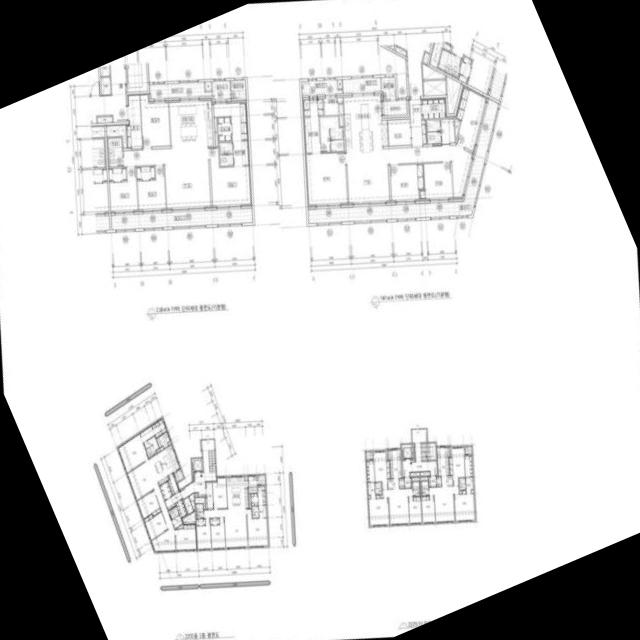background: (0, 0, 640, 640)
space_balconi: (308, 98, 498, 223), (149, 82, 212, 98), (342, 77, 381, 93), (301, 80, 342, 95), (212, 80, 230, 99), (173, 469, 183, 482), (257, 475, 265, 485)
space_bedroom: (209, 147, 252, 207), (305, 152, 347, 206), (455, 85, 487, 151), (140, 93, 170, 147), (137, 165, 166, 211), (390, 163, 424, 202), (109, 167, 138, 212), (419, 162, 452, 200), (117, 433, 148, 472), (246, 508, 268, 547), (137, 490, 161, 519), (143, 511, 167, 540), (368, 494, 389, 526), (454, 490, 475, 521), (373, 451, 390, 489), (449, 447, 465, 485), (388, 119, 411, 145), (175, 523, 196, 550), (212, 477, 227, 508), (210, 517, 225, 548), (196, 518, 211, 549), (421, 495, 435, 523), (408, 496, 422, 523), (108, 167, 126, 181), (136, 166, 154, 179), (196, 518, 205, 525), (210, 518, 219, 524)
space_dressroom: (213, 100, 248, 140), (303, 117, 320, 153), (232, 141, 249, 165), (302, 97, 323, 116), (217, 117, 231, 141), (151, 418, 167, 438), (464, 456, 473, 476), (366, 461, 374, 482), (257, 486, 265, 504), (465, 477, 473, 494), (367, 482, 375, 499), (251, 493, 258, 505)
space_elevator: (125, 63, 147, 92), (401, 444, 412, 459), (191, 458, 202, 471)
space_elevator_hall: (89, 64, 126, 123), (180, 439, 216, 499), (402, 429, 437, 476)
space_front: (408, 98, 426, 147), (126, 94, 142, 148), (421, 97, 446, 118), (165, 491, 181, 509), (160, 481, 172, 500), (205, 482, 213, 509), (176, 499, 187, 518), (404, 477, 412, 488), (428, 476, 436, 486)
space_kitchen: (343, 94, 388, 153), (169, 98, 213, 148), (149, 444, 180, 485), (226, 476, 248, 509), (436, 446, 453, 486), (387, 449, 402, 489)
space_living_room: (346, 145, 473, 204), (123, 147, 210, 209), (127, 459, 175, 552), (203, 508, 247, 548), (429, 486, 459, 522), (382, 488, 412, 524)
space_multipurpose_space: (323, 95, 343, 115)
space_other: (397, 42, 432, 96), (446, 76, 461, 113), (106, 124, 126, 148), (422, 63, 445, 79), (423, 79, 446, 95), (383, 100, 407, 115), (167, 473, 179, 495), (156, 431, 170, 448), (183, 496, 193, 514), (101, 77, 111, 94), (248, 475, 257, 493), (183, 511, 195, 522), (100, 64, 110, 76), (195, 497, 205, 508), (395, 46, 406, 56), (455, 118, 460, 139), (97, 116, 112, 123), (189, 493, 194, 510), (339, 104, 343, 125), (422, 52, 429, 64), (399, 477, 404, 488), (205, 81, 211, 90), (436, 476, 441, 486), (337, 79, 342, 88), (156, 446, 163, 452), (420, 471, 429, 475), (410, 472, 419, 476), (420, 476, 428, 480), (249, 493, 251, 507), (176, 524, 183, 528), (412, 444, 415, 452), (412, 477, 419, 480), (449, 447, 451, 457), (386, 451, 388, 460), (192, 473, 194, 481), (413, 452, 415, 460), (244, 475, 247, 480), (194, 493, 198, 496), (168, 441, 171, 445), (459, 490, 461, 493), (471, 490, 473, 493), (368, 495, 370, 498), (380, 494, 382, 497)
space_outdoor_room: (230, 79, 246, 100), (381, 77, 396, 99), (365, 451, 373, 460), (464, 446, 472, 455)
space_staircase: (420, 443, 436, 460), (208, 450, 215, 472)
space_toilet: (319, 116, 344, 151), (108, 137, 123, 166), (440, 119, 455, 143), (143, 436, 158, 457), (139, 425, 154, 442), (427, 131, 441, 143), (426, 119, 440, 131), (219, 154, 233, 166), (219, 142, 233, 154), (172, 515, 182, 528), (412, 481, 420, 496), (421, 481, 429, 495), (196, 503, 203, 518), (258, 505, 266, 517), (172, 506, 179, 517), (169, 508, 175, 519), (375, 482, 382, 488), (459, 483, 466, 489), (251, 506, 258, 512), (458, 477, 465, 483), (375, 488, 382, 494), (252, 512, 259, 517)
